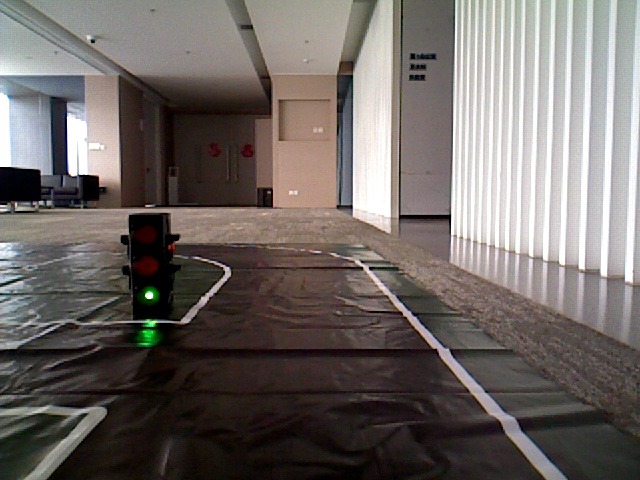green: (131, 216, 170, 306)
